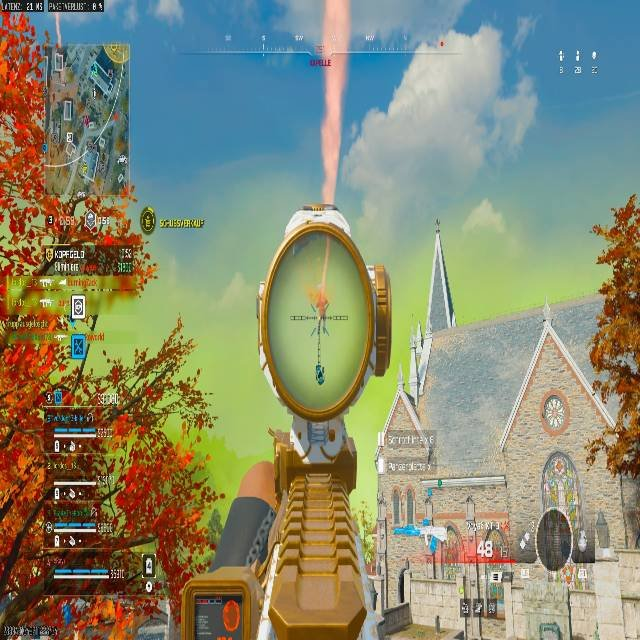player: (310, 287, 330, 336)
